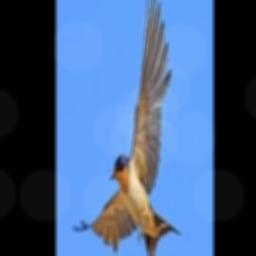Swallow: (73, 0, 183, 256)
